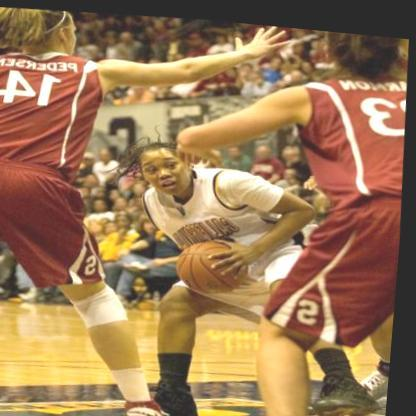basketball: (179, 229, 258, 292)
